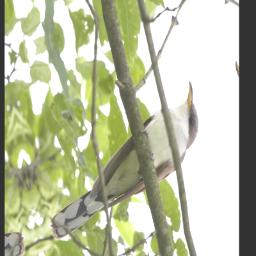Cuckoo: (35, 77, 210, 241)
